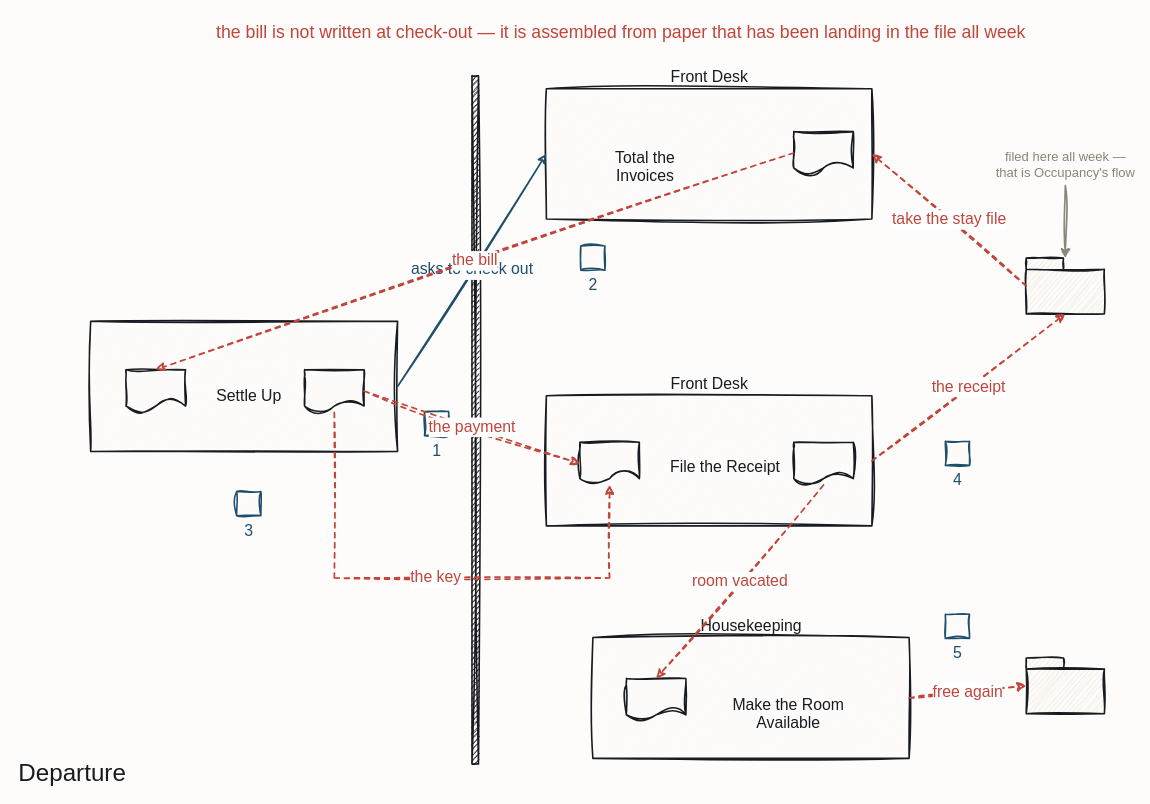
Some shapes in this 1150 by 804 pixel diagram are drawn without their labels. The box of each missing label's shape, as (x1, y1, x2, y2) in pixels:
Guest: (89, 320, 398, 452)
Guest Stay File: (1025, 257, 1105, 314)
Room List: (1025, 657, 1105, 714)
